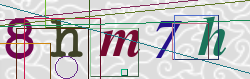7: (149, 17, 185, 62)
8: (2, 14, 38, 62)
h: (46, 15, 86, 62), (195, 14, 230, 64)
m: (96, 25, 144, 63)
